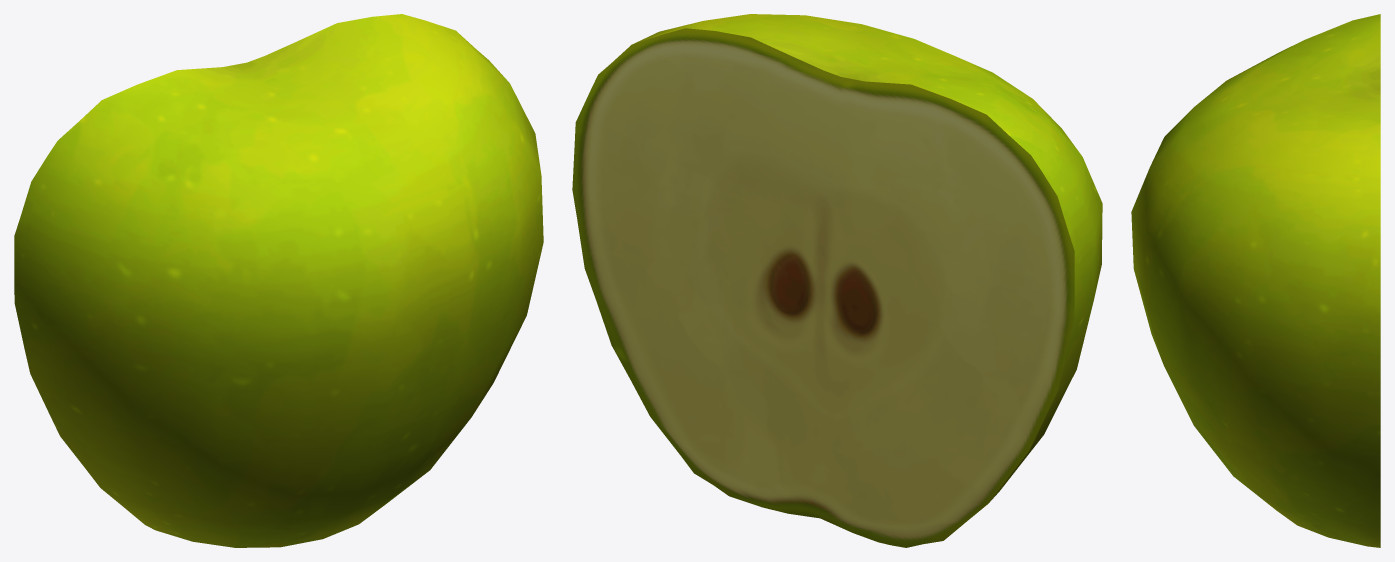
Rendered from SM_AppleGreenCutB.fbx.
3 renders of one model, left to right at view 1: azimuth 30°, elevation 25°; view 2: azimuth 150°, elevation 25°; view 3: azimuth 270°, elevation 25°, orthographic. The views are drawn at different scales.
Parts seen in each view (by area): view 1: SM_AppleGreen; view 2: SM_AppleGreen; view 3: SM_AppleGreen.
Boxes of the visible parts, x1=… form: SM_AppleGreen: x1=14, y1=14, x2=543, y2=547; SM_AppleGreen: x1=572, y1=14, x2=1102, y2=547; SM_AppleGreen: x1=1131, y1=14, x2=1380, y2=547.
Bounding box in the file's own units: 12.87 × 11.6 × 5.93.
Materials: 1 (1 with a texture image).
